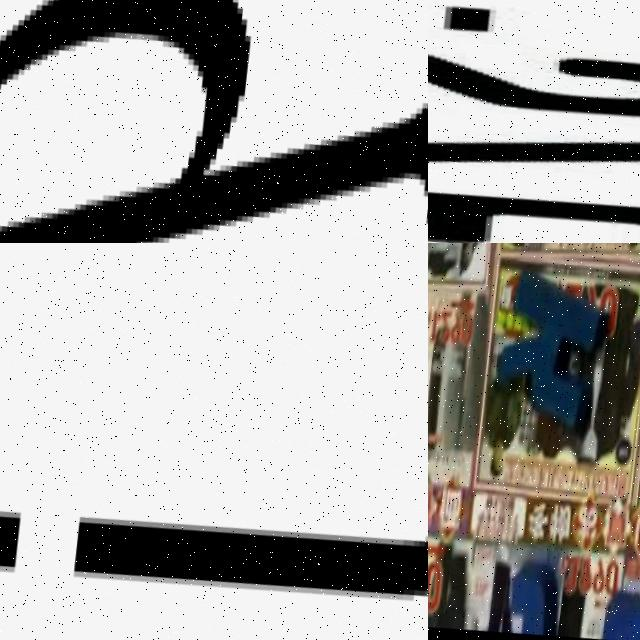7: (428, 77, 640, 230)
E: (428, 146, 640, 243)
J: (0, 416, 428, 639)
K: (490, 272, 609, 433)
Q: (0, 0, 428, 243)
S: (428, 8, 640, 159)
